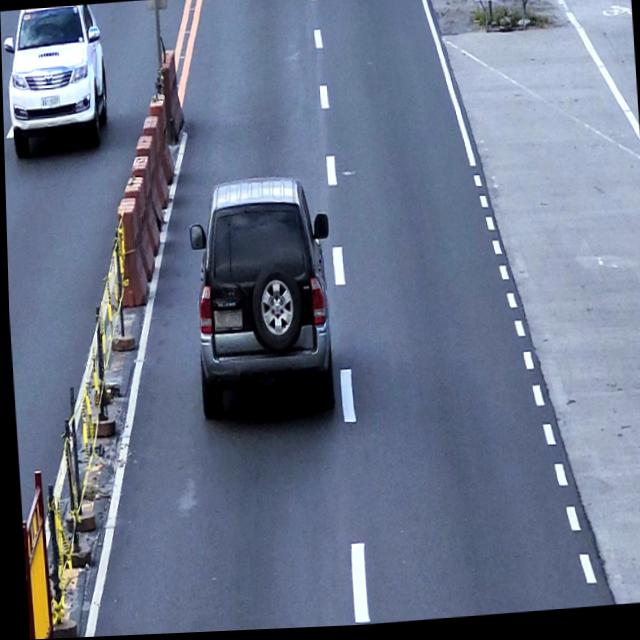Car: (183, 176, 339, 431), (0, 3, 111, 156)
License-Plate: (211, 311, 242, 334), (39, 96, 60, 108)
